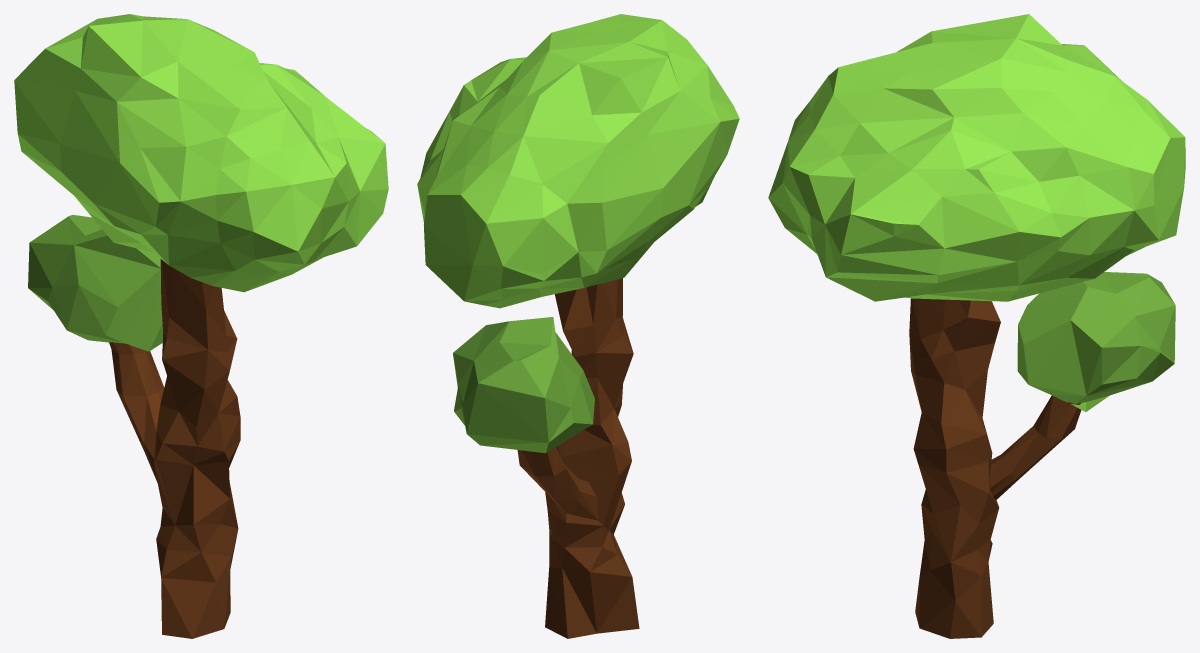
Rendered from las_tree_M.fbx.
3 views of the same model, side by side, from view 1: azimuth 30°, elevation 25°; view 2: azimuth 150°, elevation 25°; view 3: azimuth 270°, elevation 25° (orthographic). The views are drawn at different scales.
Visible parts, largest first — view 1: tree M; view 2: tree M; view 3: tree M.
Part boxes in pixels (left/top/right/bottom): tree M: left=14, top=14, right=388, bottom=638; tree M: left=417, top=14, right=739, bottom=638; tree M: left=768, top=14, right=1185, bottom=638.
Bounding box in the file's own units: 234 × 521 × 343.
